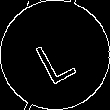L_NW: (30, 26, 80, 84)
